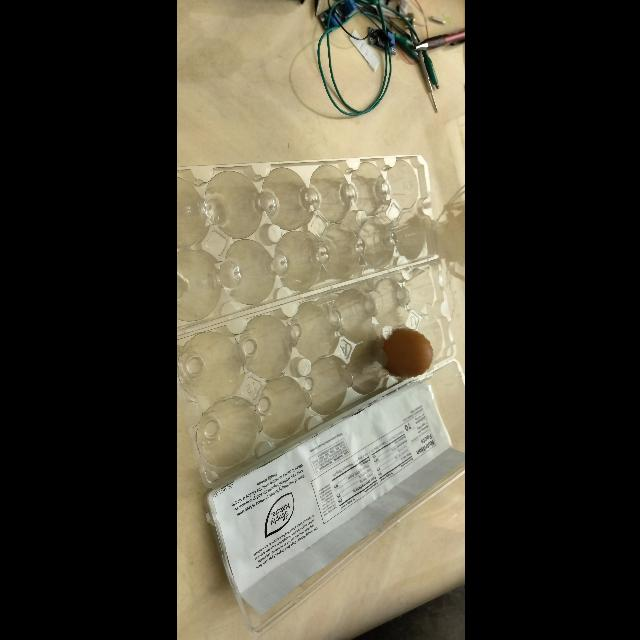Egg: (362, 326, 436, 382)
